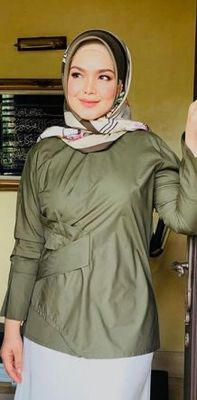Malay: (67, 48, 117, 118)
